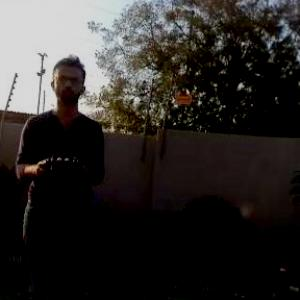follow: (13, 52, 110, 299)
